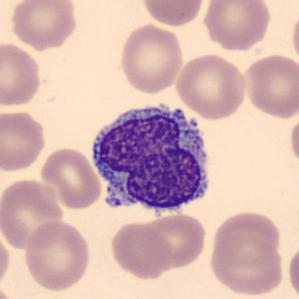Lymphocyte: (86, 94, 218, 222)
Monocyte: (85, 96, 218, 222)
RBC: (22, 218, 92, 293), (173, 51, 248, 121), (208, 231, 286, 297), (117, 21, 185, 95), (0, 175, 66, 251), (209, 208, 283, 270), (38, 145, 104, 211), (138, 212, 208, 271), (240, 52, 298, 120), (108, 219, 172, 280), (200, 0, 273, 52), (8, 0, 78, 50), (0, 108, 48, 174), (0, 40, 44, 109), (139, 0, 207, 28), (285, 242, 299, 299), (0, 229, 12, 291), (287, 113, 299, 169), (289, 7, 299, 66)
